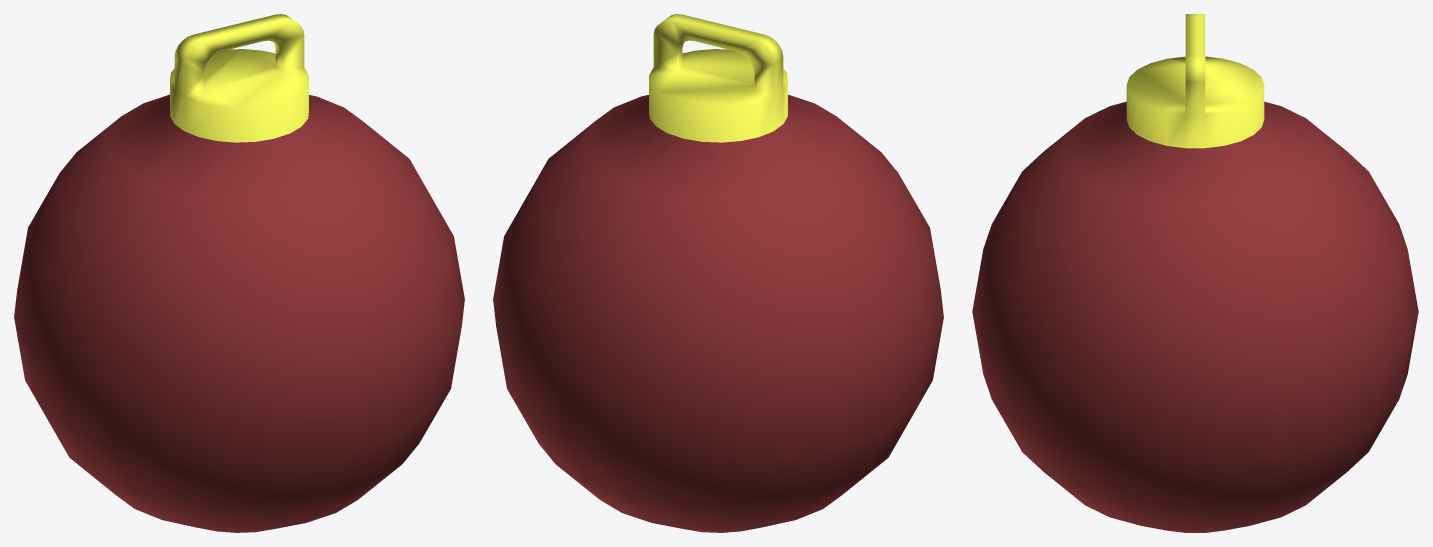
3 views of the same model, side by side, from view 1: azimuth 30°, elevation 25°; view 2: azimuth 150°, elevation 25°; view 3: azimuth 270°, elevation 25° (orthographic).
Parts seen in each view (by area): view 1: Sphere.003; view 2: Sphere.003; view 3: Sphere.003.
Boxes of the visible parts, x1,y1,x2,y2 form: Sphere.003: (14,14,464,532); Sphere.003: (493,14,943,532); Sphere.003: (972,14,1418,532).
Bounding box in the file's own units: 2515 × 3005 × 2542.
